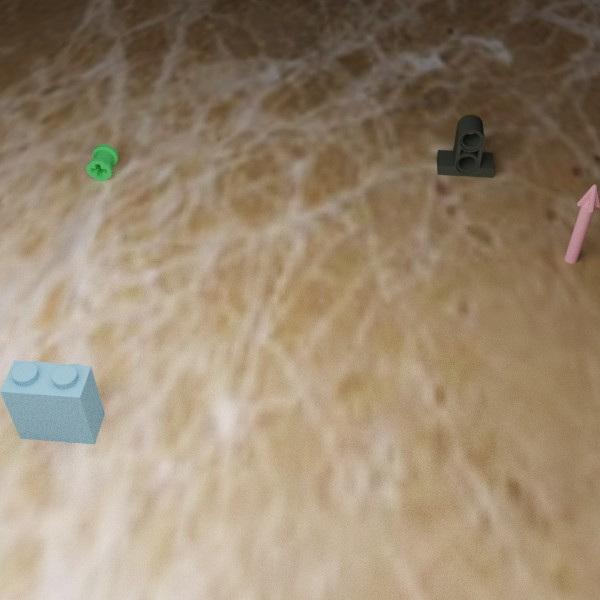lego: (0, 360, 104, 444), (436, 114, 495, 177), (564, 184, 599, 263), (86, 144, 118, 181)
